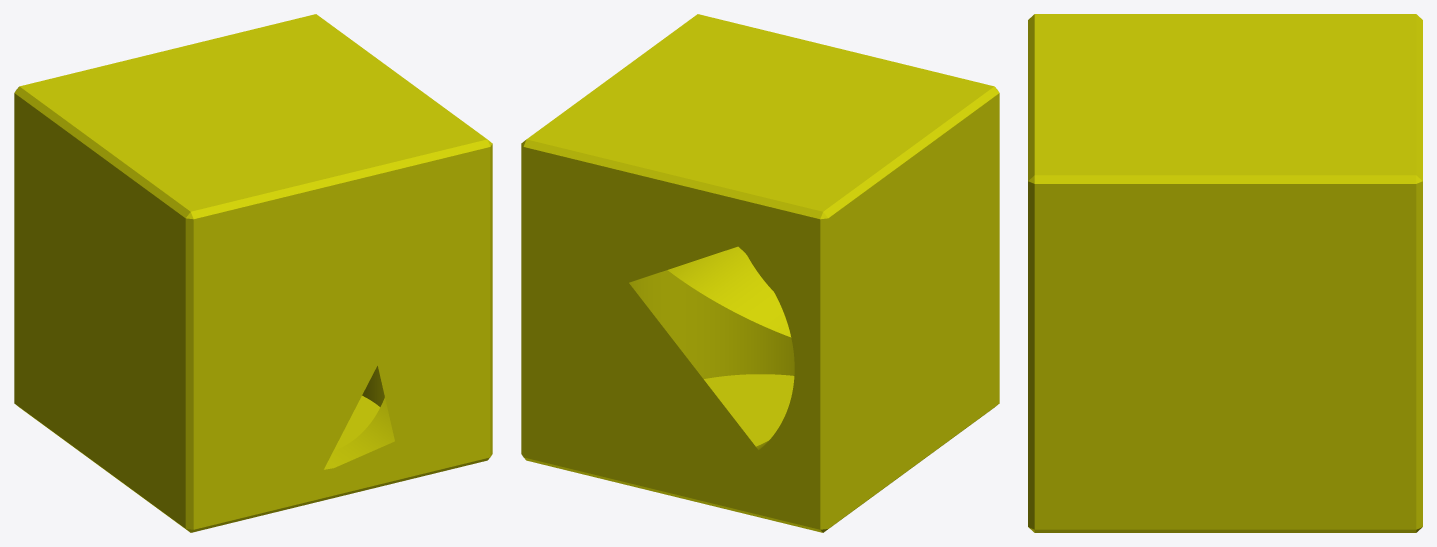
The model's file is C4Block.fbx.
3 renders of one model, left to right at view 1: azimuth 30°, elevation 25°; view 2: azimuth 150°, elevation 25°; view 3: azimuth 270°, elevation 25°, orthographic. The views are drawn at different scales.
Parts seen in each view (by area): view 1: Cube; view 2: Cube; view 3: Cube.
Boxes of the visible parts, left/top/right/bottom form: Cube: left=14, top=14, right=492, bottom=532; Cube: left=521, top=14, right=999, bottom=532; Cube: left=1028, top=14, right=1422, bottom=532.
Size of the model in its own units: 300 by 300 by 300.
